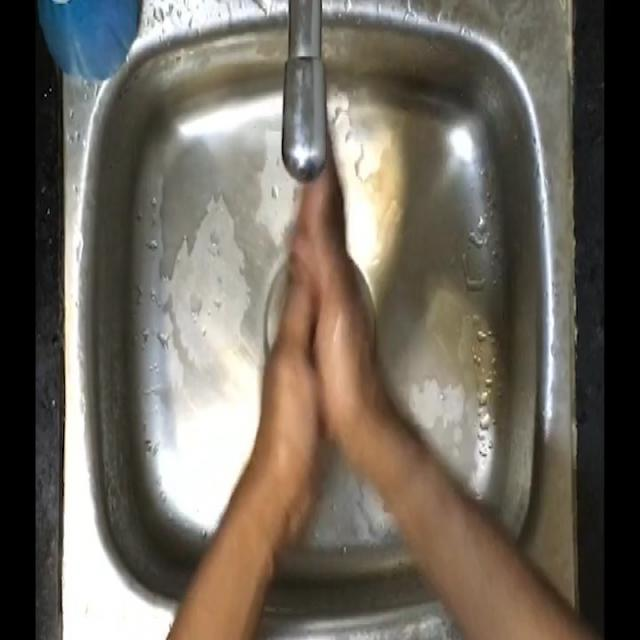step_1: (254, 95, 384, 433)
